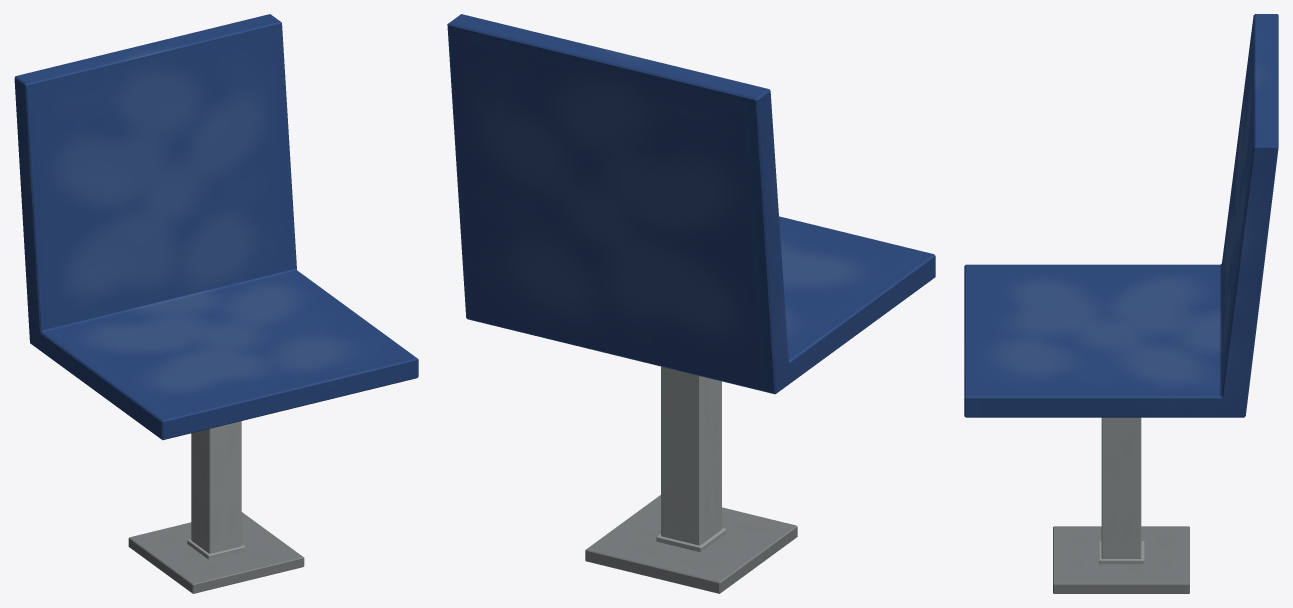
The model's file is fixed_chair_blue.glb.
The picture shows the model from 3 angles, left to right: view 1: azimuth 30°, elevation 25°; view 2: azimuth 150°, elevation 25°; view 3: azimuth 270°, elevation 25°; orthographic projection. The views are drawn at different scales.
Parts seen in each view (by area): view 1: core_fixed_chair_blue; view 2: core_fixed_chair_blue; view 3: core_fixed_chair_blue.
Part boxes in pixels (bbox=[...]): core_fixed_chair_blue: bbox=[14, 14, 418, 593]; core_fixed_chair_blue: bbox=[447, 14, 935, 593]; core_fixed_chair_blue: bbox=[964, 14, 1278, 593].
Size of the model in its own units: 0.54 by 0.92 by 0.5397.
Materials: 2 (2 with a texture image).
